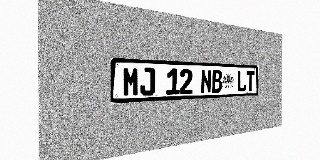1: (166, 68, 180, 95)
2: (180, 69, 192, 94)
B: (212, 70, 222, 93)
J: (140, 67, 155, 96)
L: (237, 70, 246, 92)
M: (123, 67, 139, 97)
N: (201, 69, 212, 93)
T: (246, 71, 254, 91)
